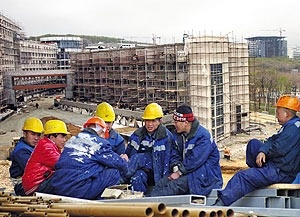none: (173, 105, 195, 134)
yellow: (274, 95, 299, 125), (44, 120, 68, 150), (21, 117, 43, 147), (142, 103, 163, 132), (84, 116, 109, 139), (97, 101, 115, 131)
